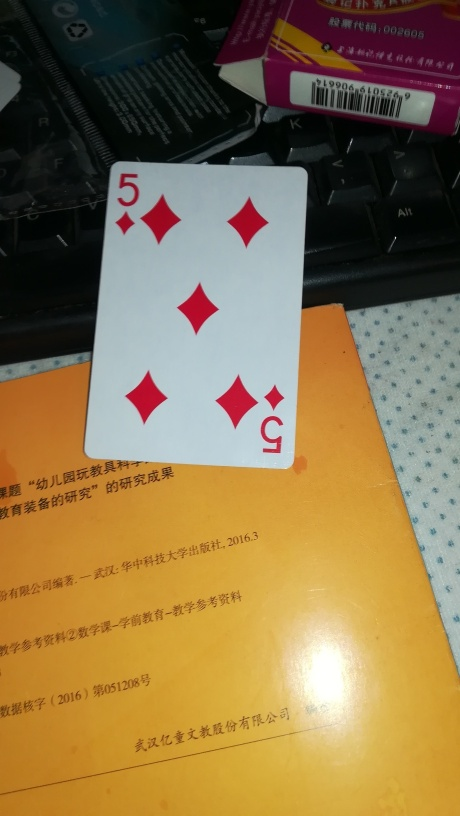fk 5: (83, 157, 310, 475)
